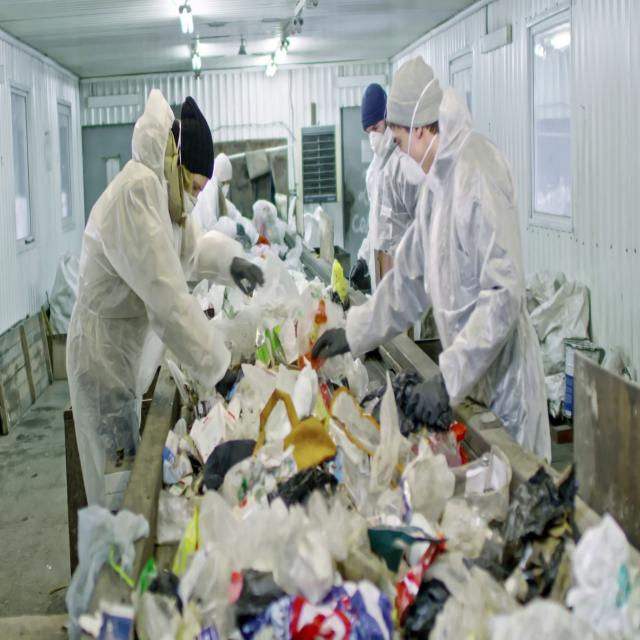gloved: (402, 372, 452, 433), (230, 256, 264, 297), (312, 327, 351, 360), (349, 257, 369, 290)
